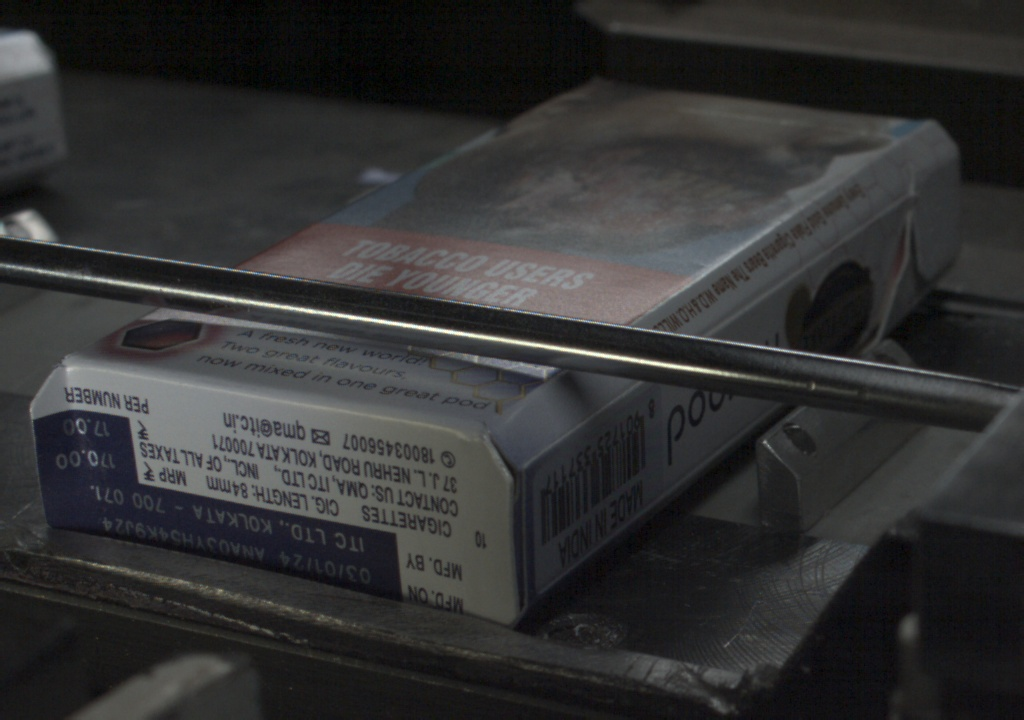g_label: (43, 484, 400, 599)
g_lmiter: (708, 259, 808, 333), (809, 192, 907, 260), (578, 378, 640, 425), (519, 425, 578, 469)
ng_bottom: (28, 360, 95, 531)
price: (41, 412, 135, 484)
